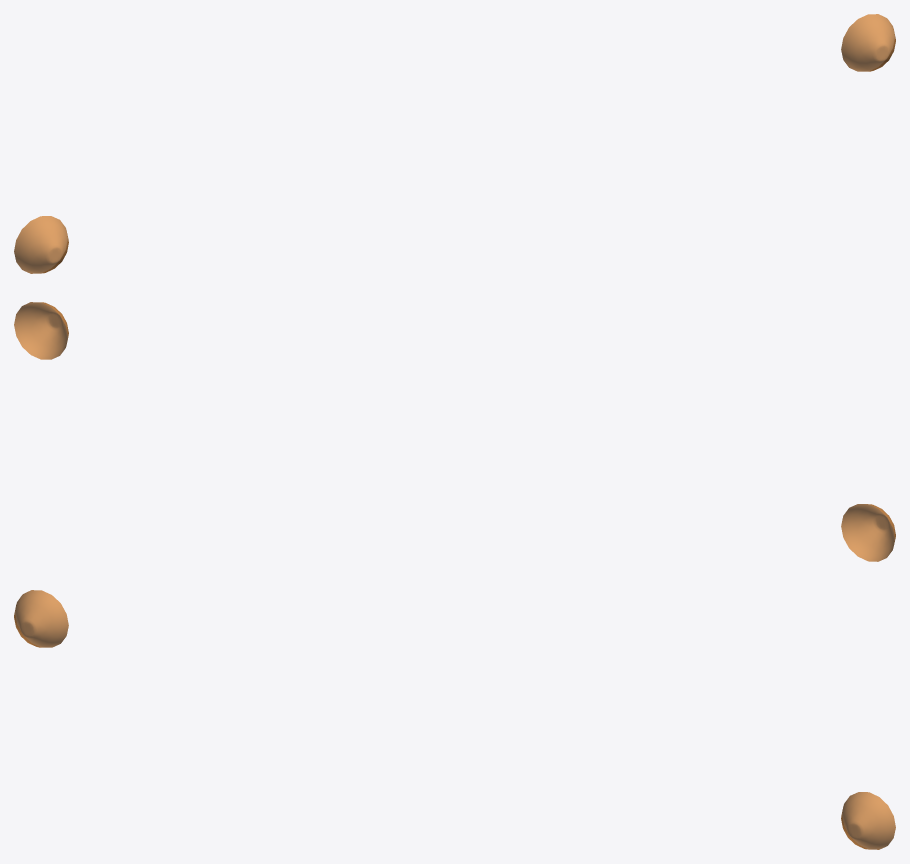
File: o_glass_01.fbx
3 views of the same model, one above another, from view 1: azimuth 30°, elevation 25°; view 2: azimuth 150°, elevation 25°; view 3: azimuth 330°, elevation 25° (orthographic).
Parts seen in each view (by area): view 1: o_glass_01; view 2: o_glass_01; view 3: o_glass_01.
Boxes of the visible parts, box(x1,y1,x2,y2) form: o_glass_01: box(14, 14, 895, 273); o_glass_01: box(14, 302, 895, 561); o_glass_01: box(14, 590, 895, 849).
Bounding box in the file's own units: 334 × 20.74 × 9.4.
